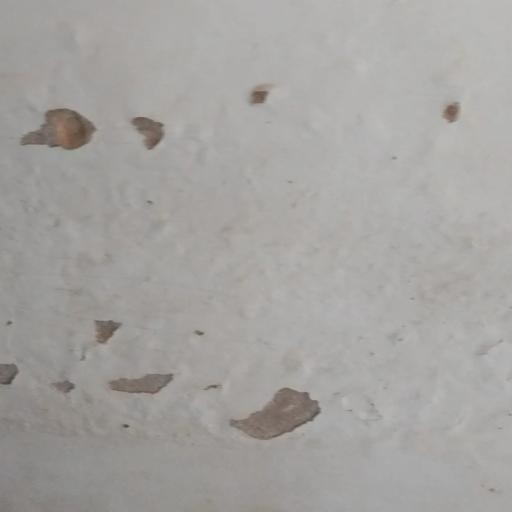peeling: (0, 294, 332, 451), (9, 90, 178, 167), (246, 74, 277, 118), (436, 96, 469, 134)
